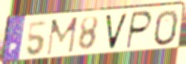5: (25, 19, 47, 58)
8: (76, 15, 100, 54)
M: (45, 16, 80, 58)
O: (153, 9, 180, 47)
P: (125, 10, 154, 51)
V: (104, 12, 130, 52)
